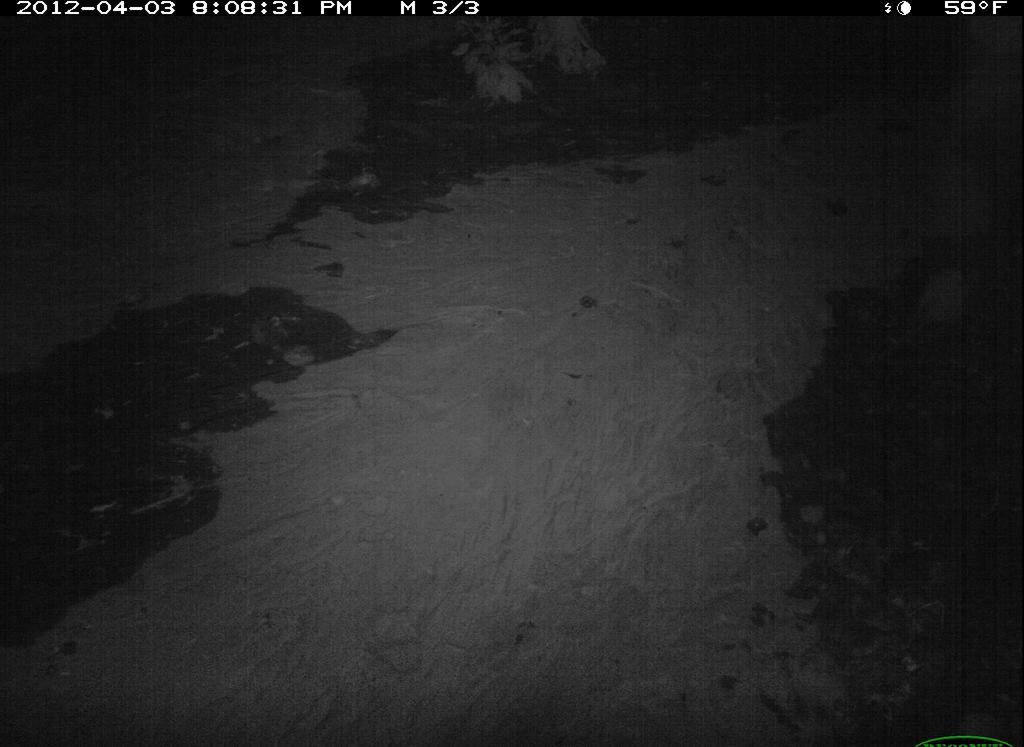opossum: (899, 248, 981, 363)
